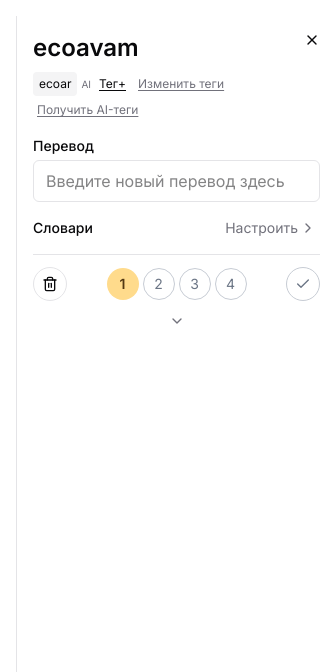
Test case: keeps a failed manual tag draft for retry
Click the button "Тег+".
click(112, 84)  # box [95,74,130,94]
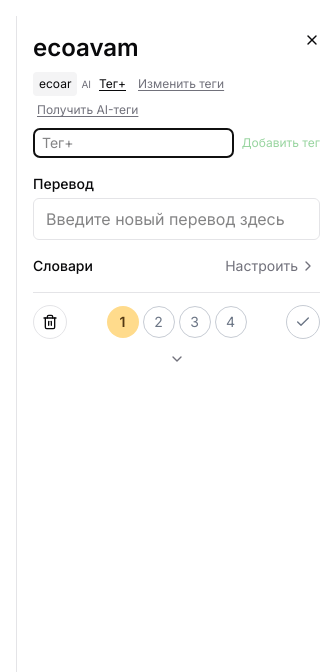
Type "Глагол" into the field named "Новый тег".
click(133, 143); type("Глагол")  # box [33,128,234,158]
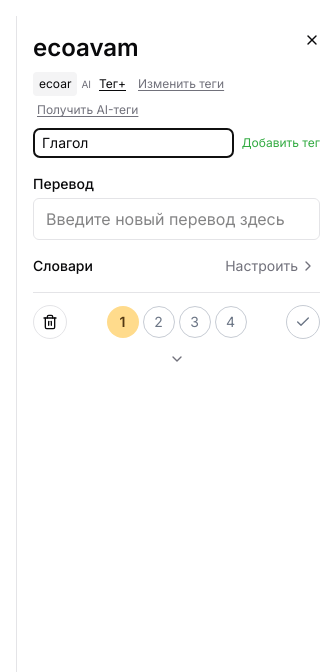
Press Enter in the field named "Новый тег", box [33,128,234,158]
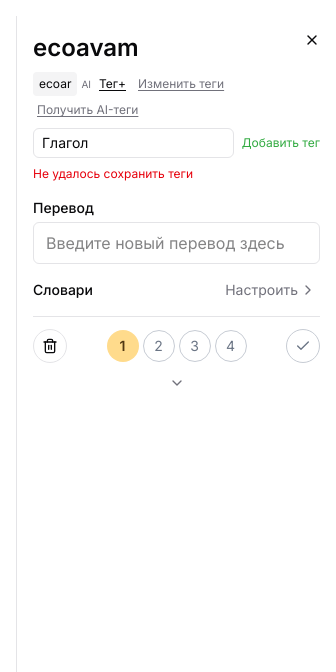
Expected: the text "Не удалось сохранить теги" is shown, [33,166,193,181]
Press Enter in the field named "Новый тег", box [33,128,234,158]
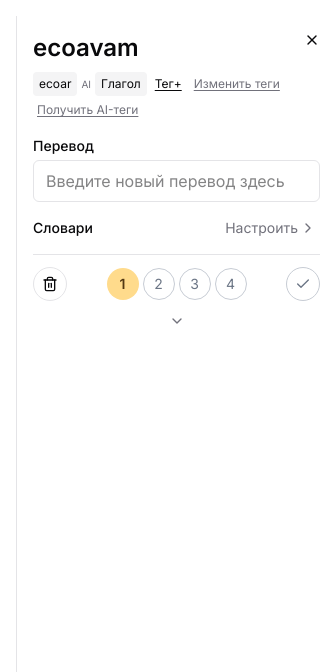
Expected: the text "Глагол" is shown, [95,72,147,96]
